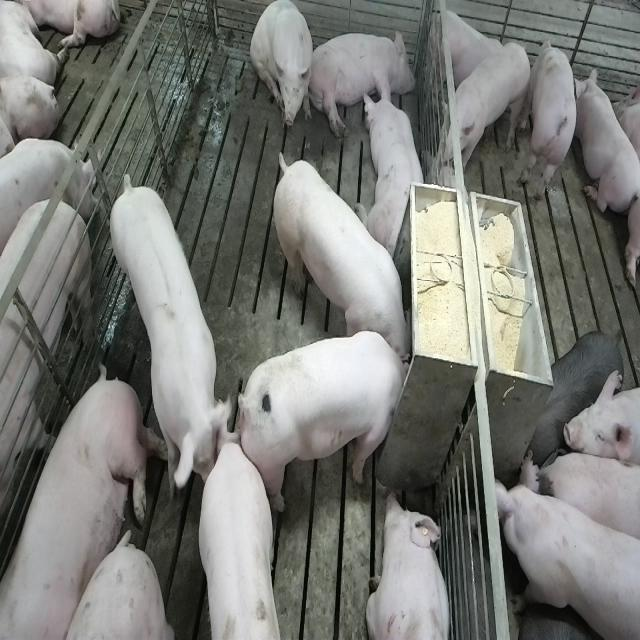Feeding: (244, 329, 420, 512), (268, 143, 411, 360)
Lateral_lying: (307, 26, 415, 140)
Sitting: (250, 2, 314, 136)
Standing: (0, 193, 94, 640), (104, 165, 232, 491), (492, 457, 638, 640), (191, 436, 281, 640), (524, 328, 623, 457), (0, 136, 100, 259), (444, 41, 533, 172), (534, 446, 640, 550), (565, 368, 640, 468)
Sternal_lying: (366, 490, 453, 640), (364, 78, 430, 258), (574, 66, 637, 214), (428, 4, 507, 92)
